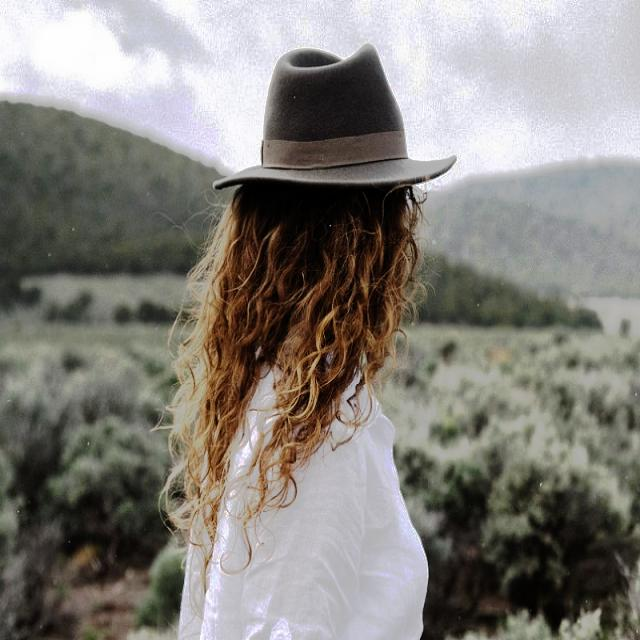TOPI: (205, 35, 464, 209)
